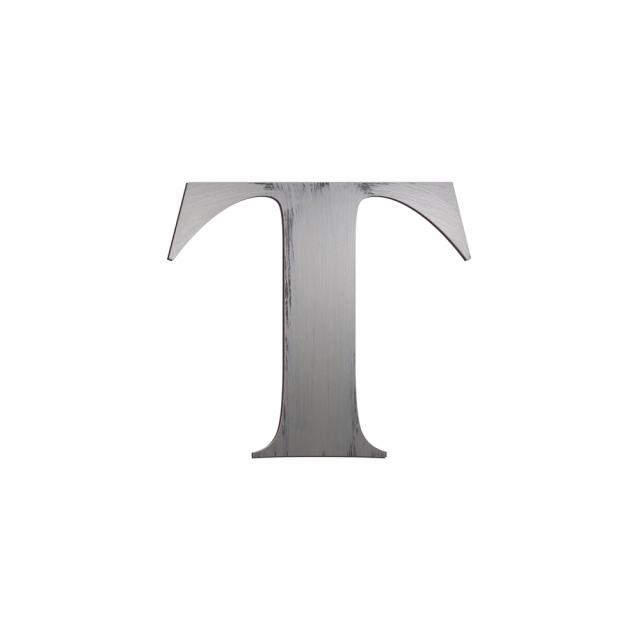T: (132, 135, 490, 481)
